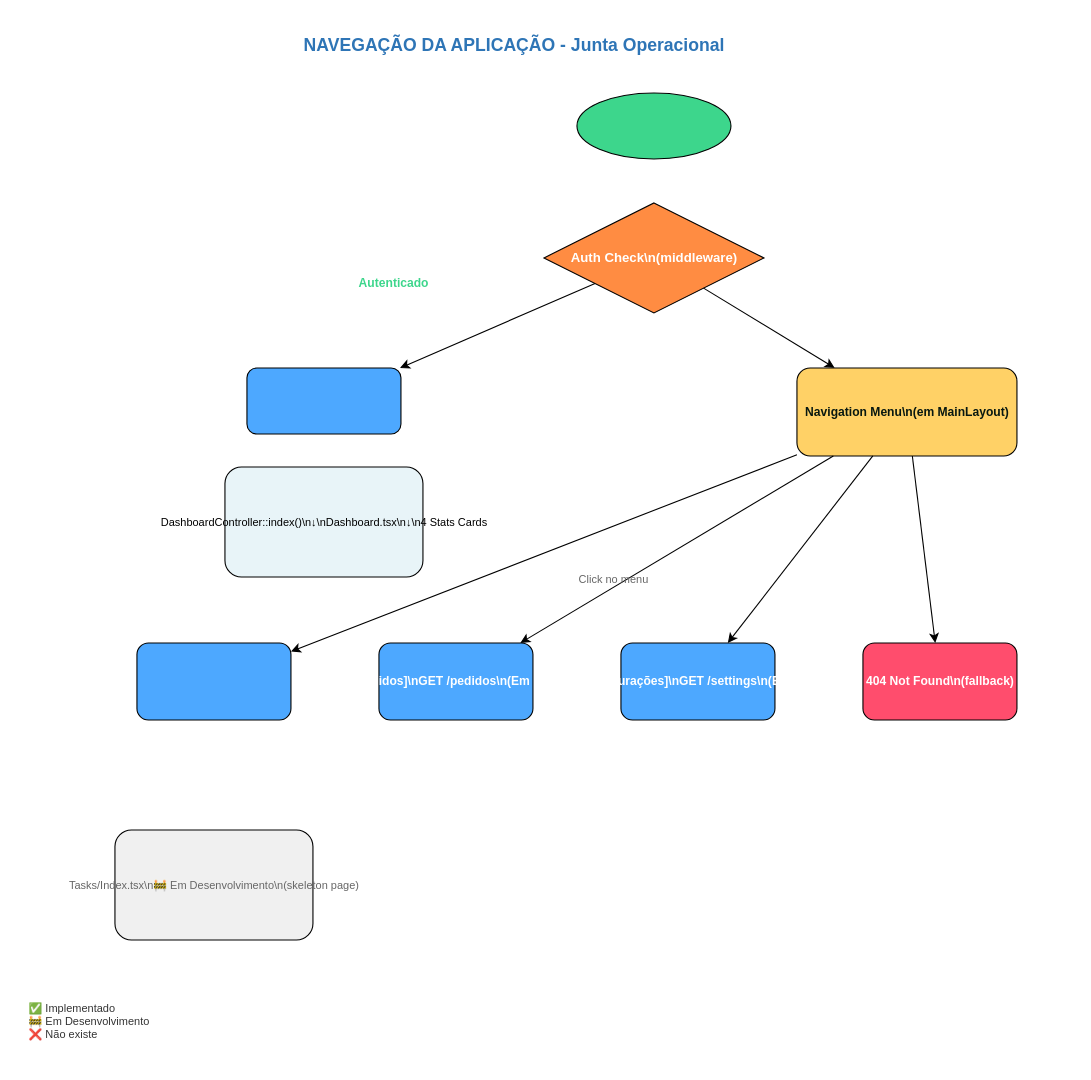
Some shapes in this 1091 by 1080 pixel diagram are drawn without their labels. Here are the shapes that lost their labels. From the top down, the box of each, then its label:
(576, 92, 731, 159): User Acessa App
(246, 367, 401, 434): GET /
(136, 642, 291, 720): [Tarefas]\nGET /tarefas
